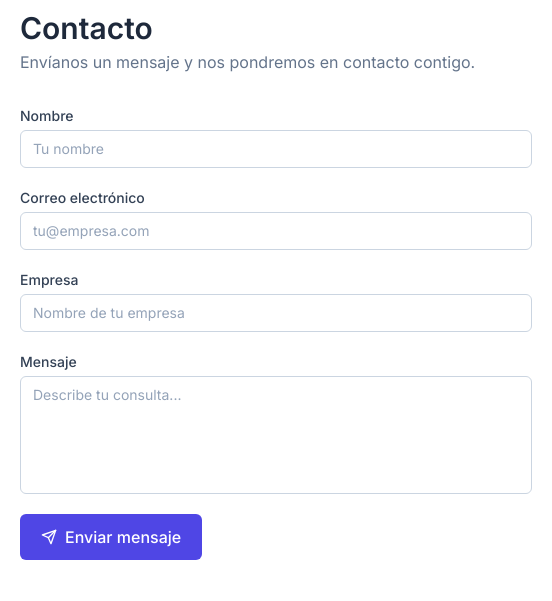
it: ContactPage › muestra error de email inválido
The width and height of the screenshot is (552, 601).
Type "Ana" into the field labelled "Nombre" at (276, 149), box [20,130,532,168]
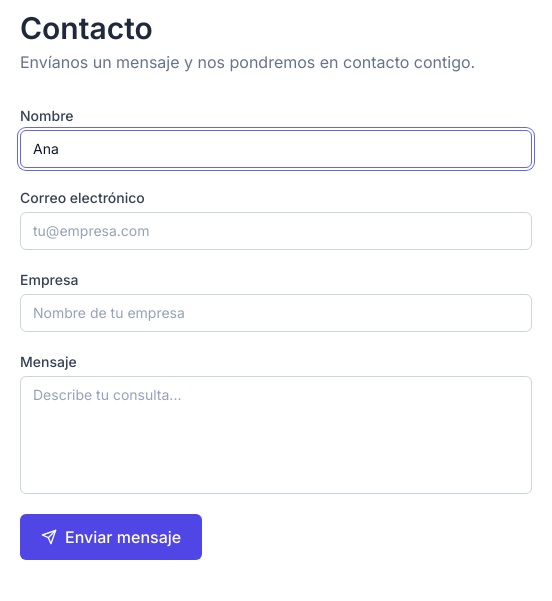
Type "noesvalido" into the field labelled "Correo electrónico" at (276, 231), box [20,212,532,250]
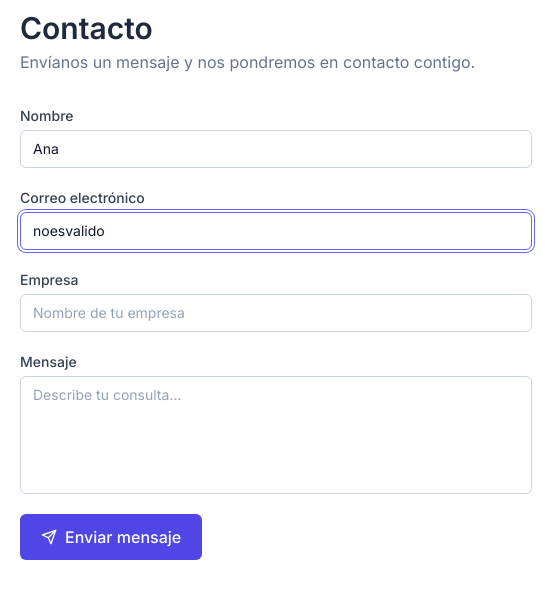
Type "Hola" into the text box with placeholder "Describe tu consulta..." at (276, 435), box [20,376,532,494]
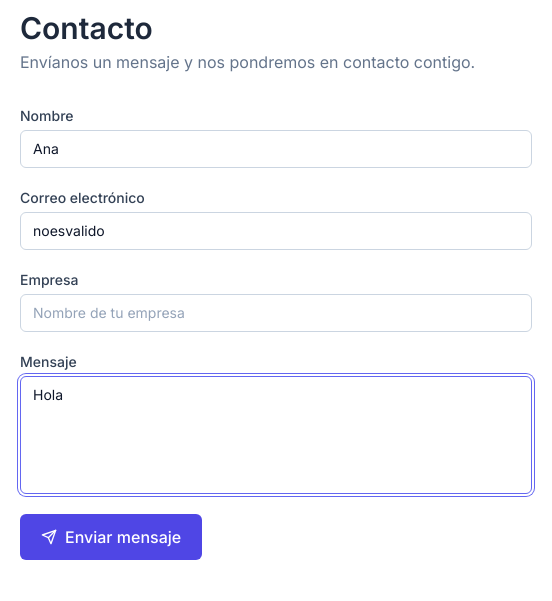
Click the button "Enviar mensaje" at (111, 537), box [20,514,202,560]
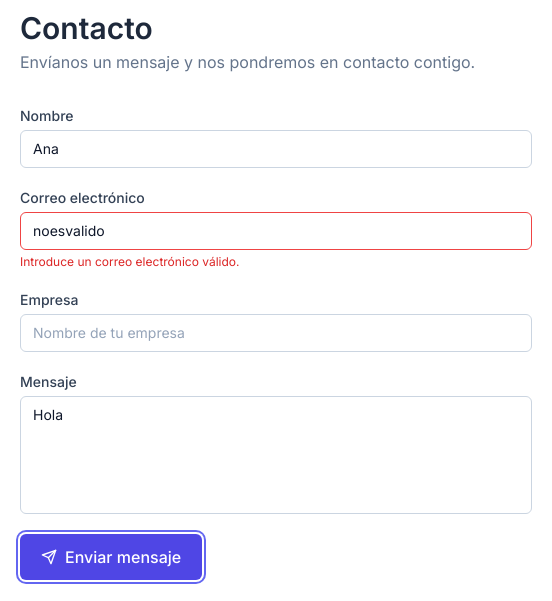
Result: the text "Introduce un correo electrónico válido." is shown at [20,254,240,269]
